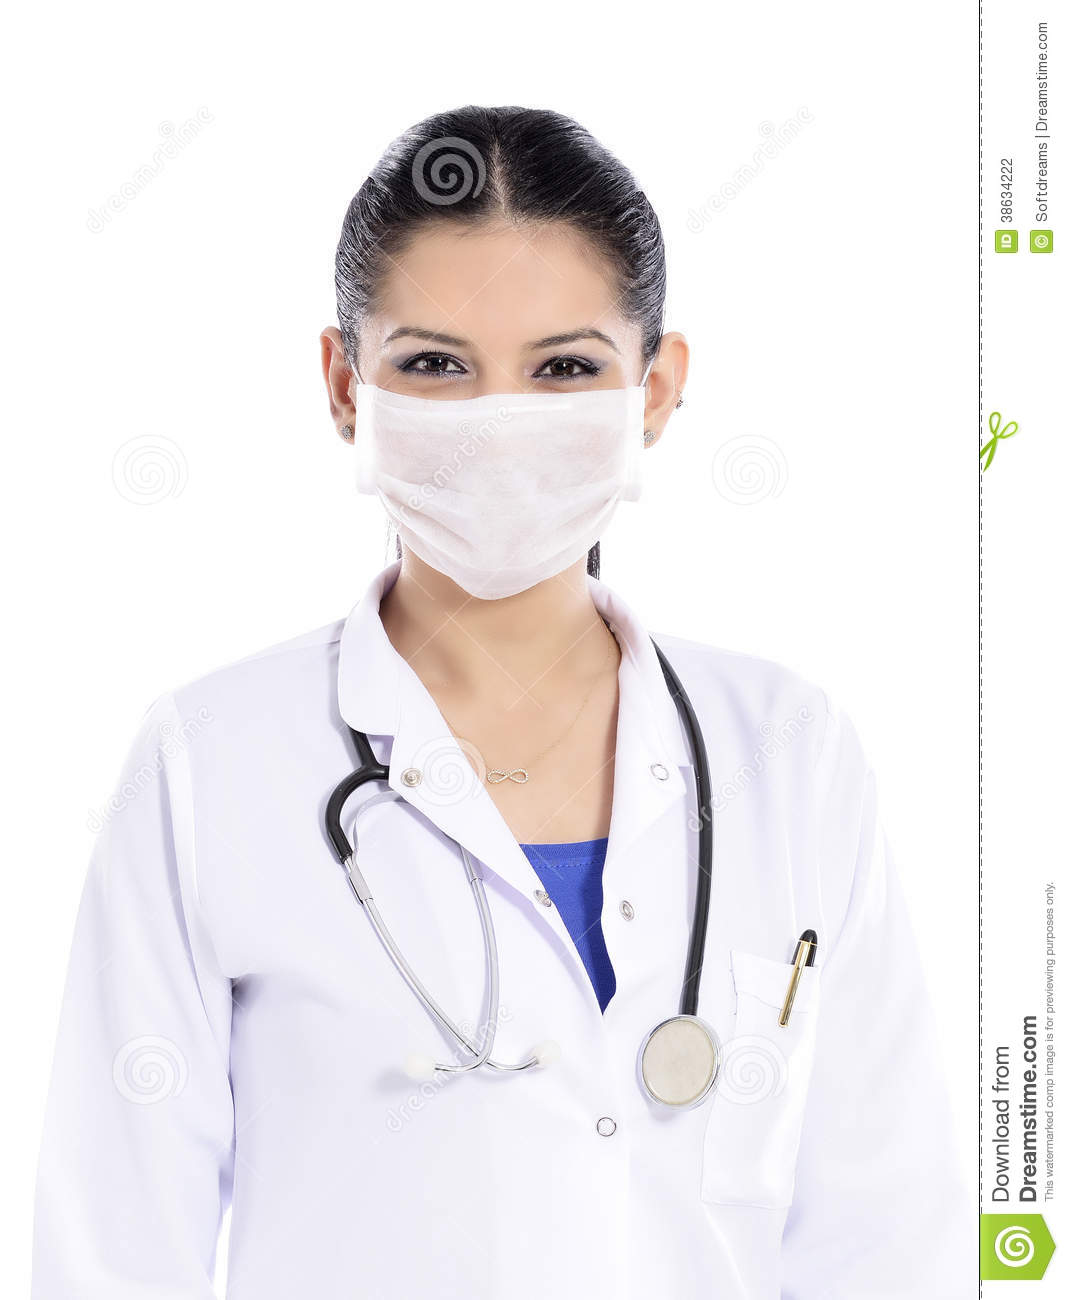mask: (352, 367, 652, 597)
